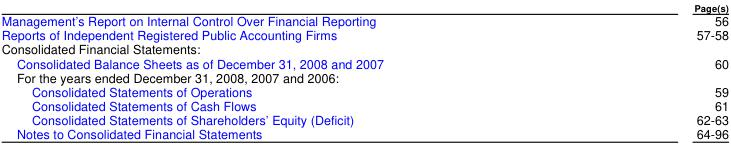table: (0, 0, 727, 141)
table column: (0, 0, 538, 141), (538, 0, 727, 141)
table column header: (0, 0, 727, 12)
table projected row header: (0, 41, 727, 55), (0, 69, 727, 83)
table row: (0, 12, 727, 27), (0, 83, 727, 98), (0, 126, 727, 141), (0, 27, 727, 41), (0, 41, 727, 55), (0, 55, 727, 69), (0, 69, 727, 83), (0, 98, 727, 112), (0, 112, 727, 126), (0, 0, 727, 12)
